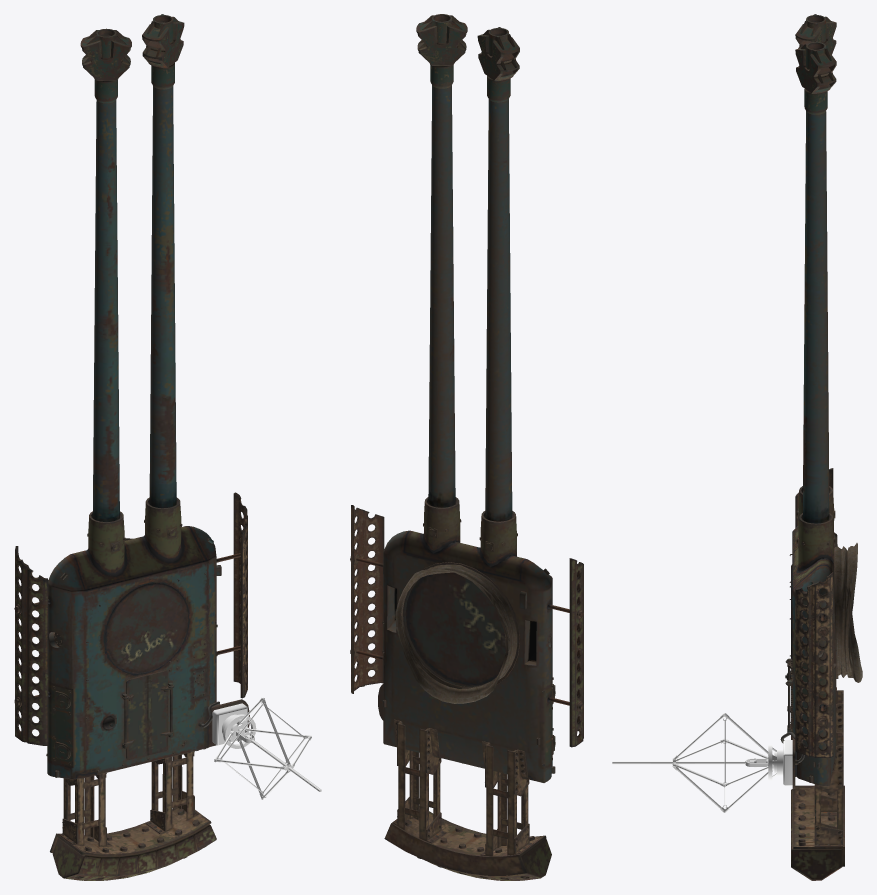
File: Gun_02.glb
3 renders of one model, left to right at view 1: azimuth 30°, elevation 25°; view 2: azimuth 150°, elevation 25°; view 3: azimuth 270°, elevation 25°, orthographic. The views are drawn at different scales.
Visible parts, largest first — view 1: set_0_group_0, set_0_group_1; view 2: set_0_group_0; view 3: set_0_group_0, set_0_group_1.
Boxes of the visible parts, box(x1,y1,x2,y2) form: set_0_group_0: box(14, 14, 249, 880); set_0_group_1: box(212, 697, 321, 799); set_0_group_0: box(350, 14, 583, 880); set_0_group_0: box(780, 14, 862, 880); set_0_group_1: box(612, 713, 792, 812).
Size of the model in its own units: 1.94 by 6.42 by 1.76.
2 materials, 1 textured.
